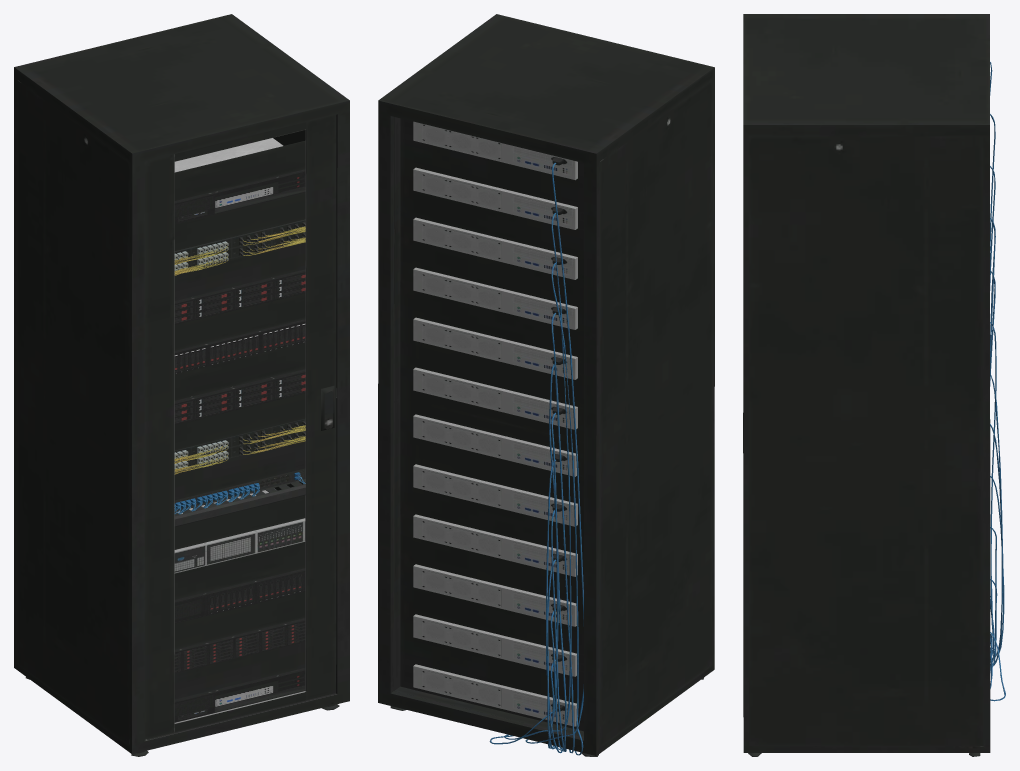
Rendered from dev-server-rack_lod1.glb.
3 renders of one model, left to right at view 1: azimuth 30°, elevation 25°; view 2: azimuth 150°, elevation 25°; view 3: azimuth 270°, elevation 25°, orthographic. The views are drawn at different scales.
Visible parts, largest first — view 1: body; view 2: body; view 3: body.
Part boxes in pixels (x1=…): body: x1=14, y1=14, x2=349, y2=756; body: x1=378, y1=14, x2=714, y2=756; body: x1=743, y1=14, x2=1005, y2=756.
Size of what is drawn, in the model's own units: 0.6001 by 1.6 by 0.6001.
3 materials, 3 textured.
